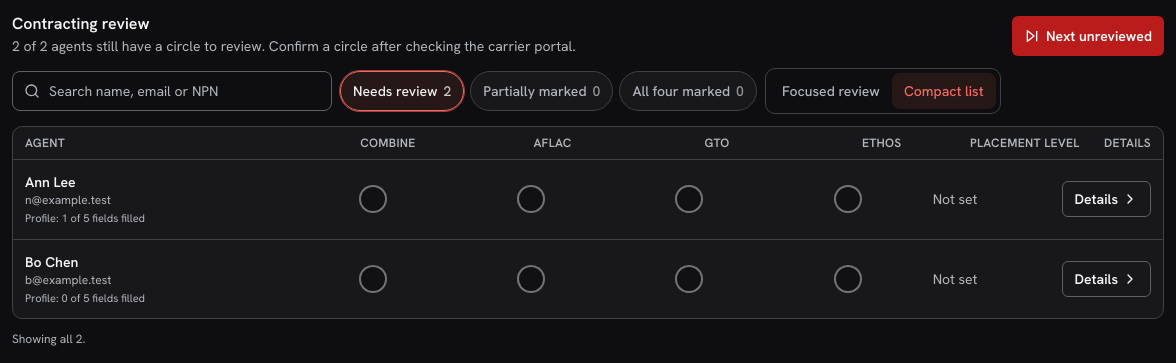
Test: the contracting review: what you see › searches by name, email or NPN and says so when nothing matches
The width and height of the screenshot is (1176, 363).
Expected: the text "Ann Lee" is shown, [25,172,76,192]
In the field named "Search agents": (172, 91) [12,71,332,111], type "0123456"
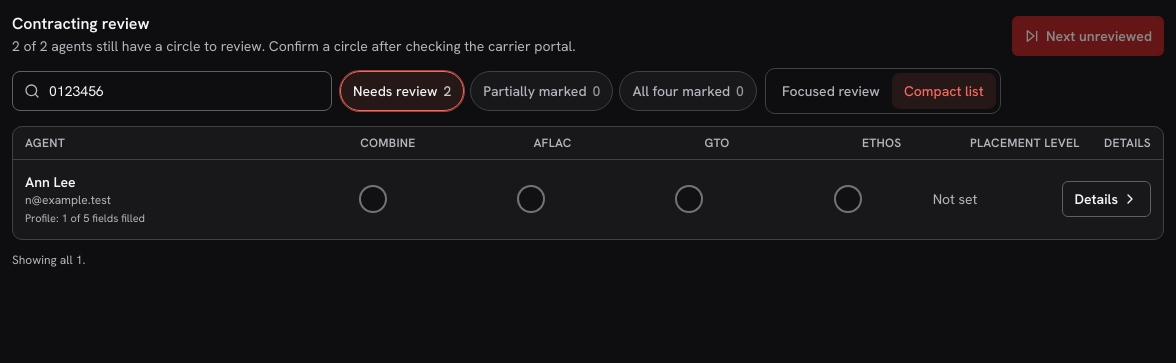
Expected: the text "Ann Lee" is shown, [25,172,76,192]
Now the text "Bo Chen" is gone
Replace the text in the field named "Search agents" with "zzzz": (172, 91) [12,71,332,111]
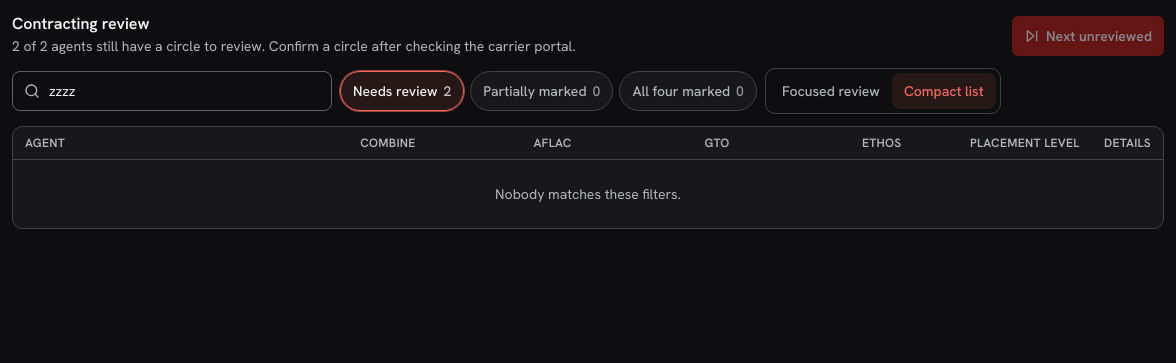
Now the text "Nobody matches these filters." is shown, box [495,185,681,203]
